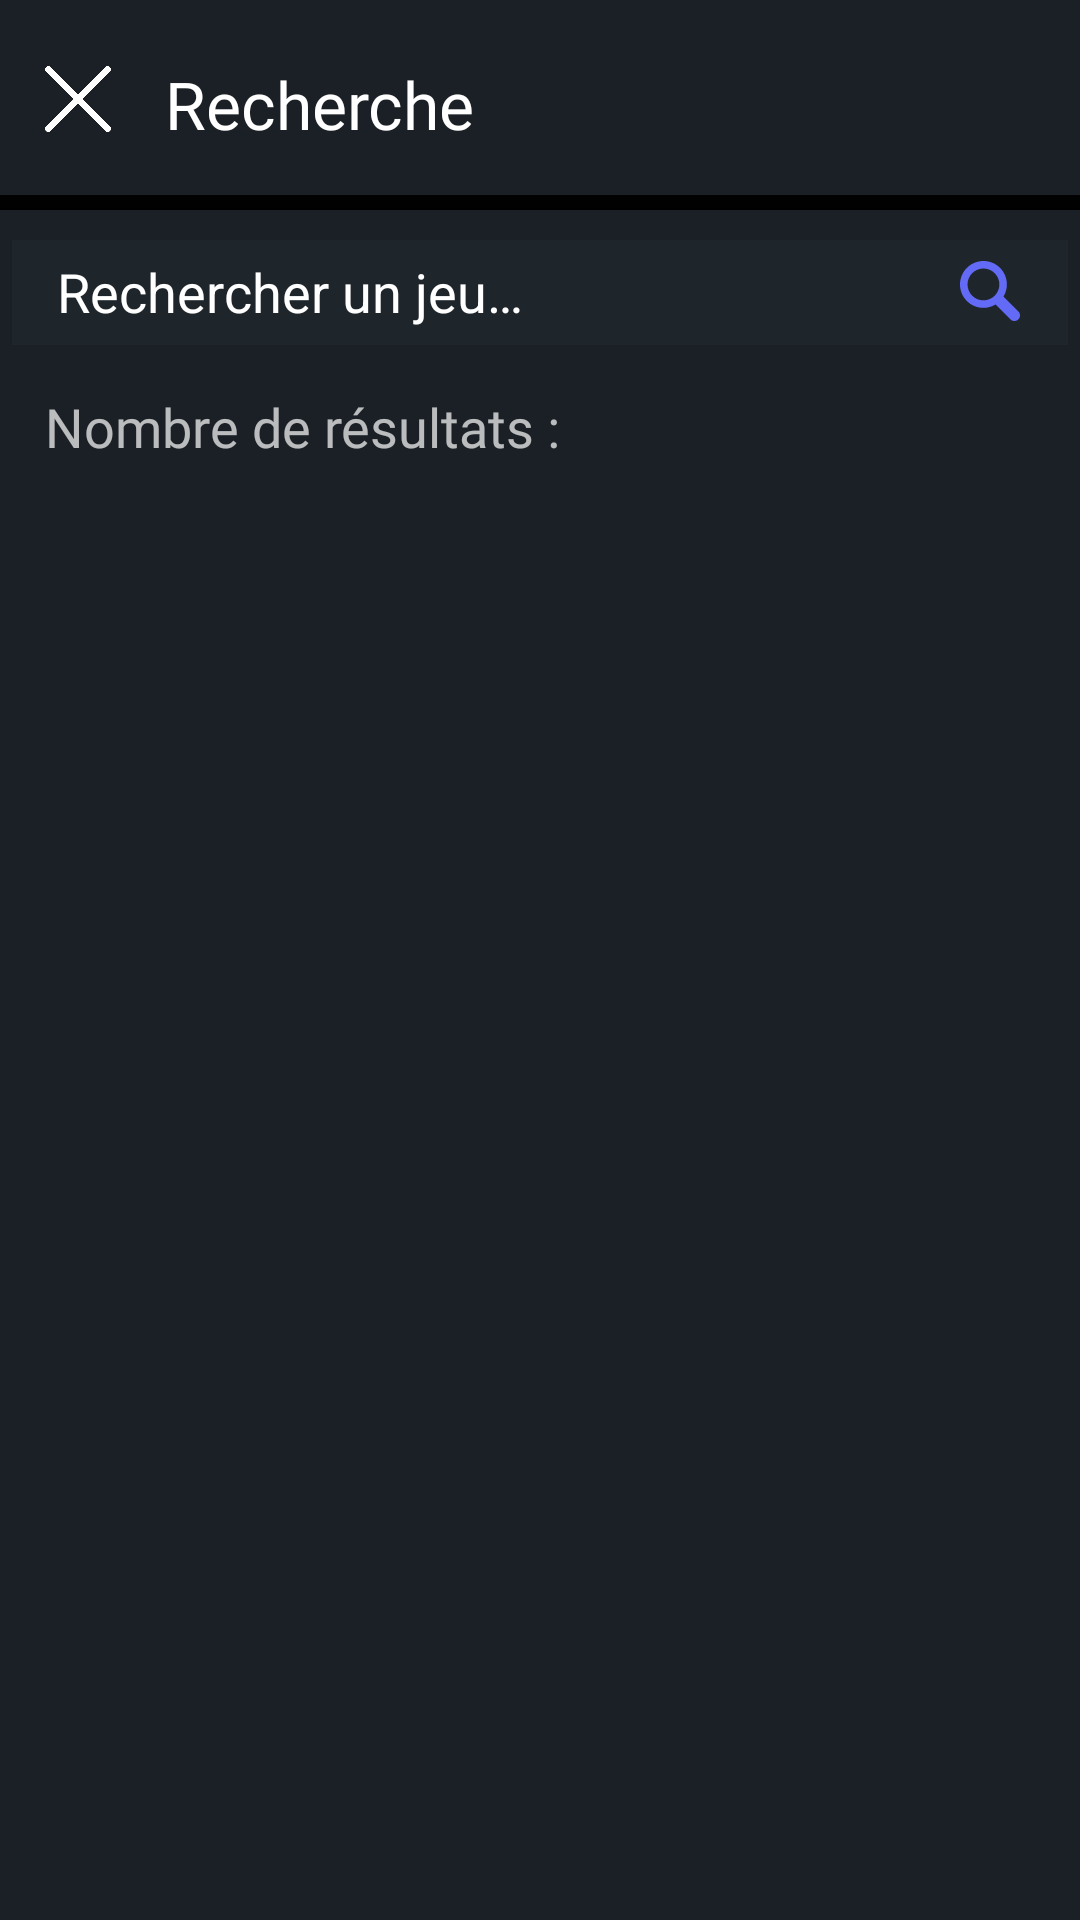

Where icons sit on this 1080*1920 app screen, as (x1, y1, x2, y2):
Fermer: (45, 66, 111, 132)
search: (960, 261, 1020, 321)
